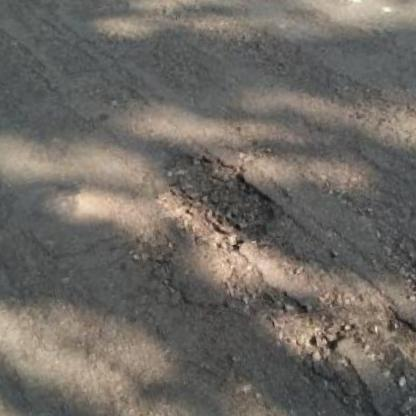pothole: (145, 134, 288, 268)
